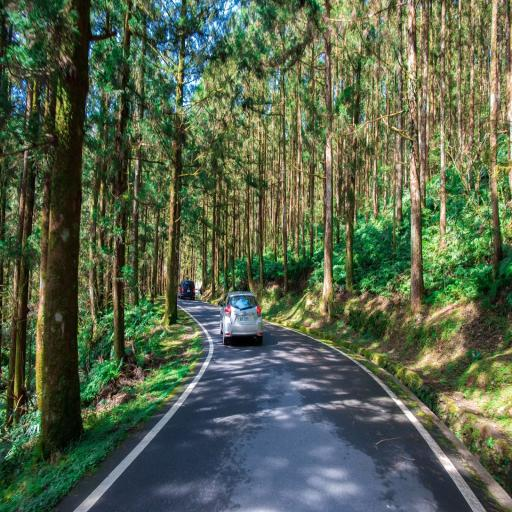car: (214, 283, 274, 345), (172, 263, 204, 305)
whiteline: (261, 309, 498, 512), (72, 297, 218, 512)
